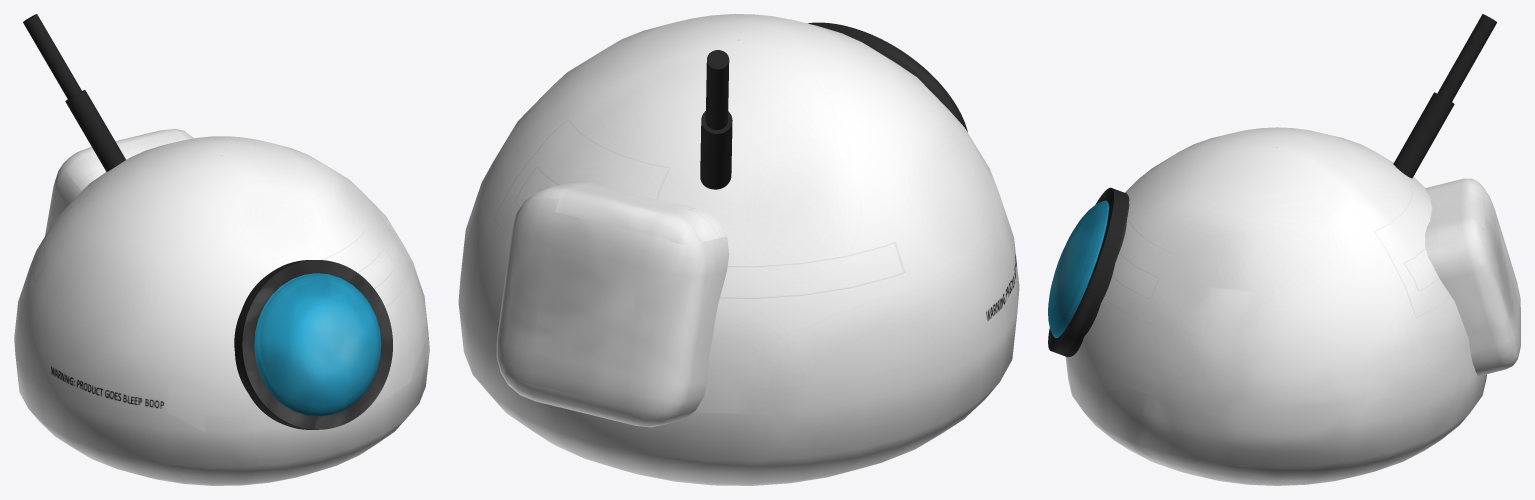
File: levi.dae
3 views of the same model, side by side, from view 1: azimuth 30°, elevation 25°; view 2: azimuth 150°, elevation 25°; view 3: azimuth 270°, elevation 25° (orthographic). The views are drawn at different scales.
Visible parts, largest first — view 1: Sphere, Sphere.001, Cylinder, Cylinder.002, Cube; view 2: Sphere, Cube, Cylinder.002, Cylinder; view 3: Sphere, Cube, Sphere.001, Cylinder, Cylinder.002.
Part boxes in pixels (bbox=[...]): Sphere: bbox=[14, 136, 429, 485]; Sphere.001: bbox=[254, 273, 381, 416]; Cylinder: bbox=[234, 260, 392, 429]; Cylinder.002: bbox=[23, 14, 125, 171]; Cube: bbox=[45, 129, 193, 235]; Sphere: bbox=[458, 14, 1019, 485]; Cube: bbox=[496, 180, 729, 427]; Cylinder.002: bbox=[700, 50, 732, 189]; Cylinder: bbox=[808, 22, 967, 132]; Sphere: bbox=[1065, 127, 1486, 485]; Cube: bbox=[1425, 178, 1520, 376]; Sphere.001: bbox=[1048, 200, 1108, 338]; Cylinder: bbox=[1048, 187, 1129, 357]; Cylinder.002: bbox=[1393, 14, 1496, 178].
Size of the model in its own units: 1.65 by 1.83 by 1.66.
Materials: 4 (3 with a texture image).
